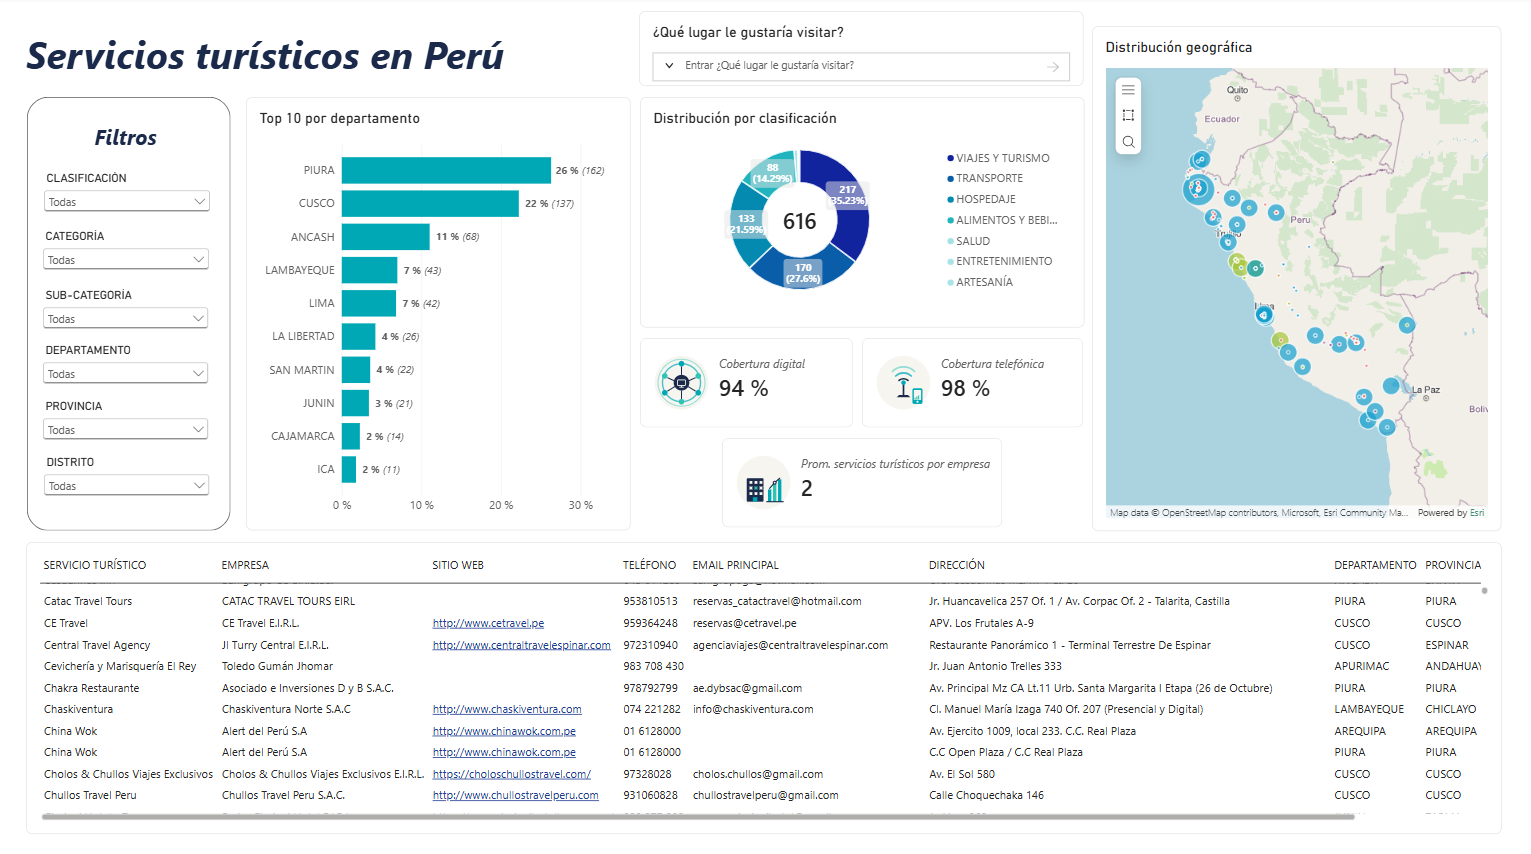

The page's visual inventory and layout, read from the dashboard file:
{"tool":"powerbi","page":{"name":"Resumen","canvas":[1920,1080],"ordinal":0},"visuals":[{"type":"esriVisual","title":"Distribución geográfica","fields":{"Color":["DIM_CLASIFICACIÓN.NOMBRE"],"Latitude":["DIM_UBIGEO.latitude"],"Location":["FACT_SERVICIO_TURISTICO.DIRECCION"],"Longitude":["DIM_UBIGEO.longitude"],"Size":["MEDIDAS_DAX.N_SERV_TURISTICOS"]},"box":[1368.6,35.7,512.9,632.9],"z":0},{"type":"clusteredBarChart","title":"Top 10 por departamento","fields":{"Category":["DIM_UBIGEO.departamento"],"Y":["MEDIDAS_DAX.%_SERV_TURISTICOS_DEP"]},"box":[308.3,125,482.1,543.3],"z":1000},{"type":"tableEx","fields":{"Values":["FACT_SERVICIO_TURISTICO.NOMBRE","DIM_EMPRESA.NOMBRE","FACT_SERVICIO_TURISTICO.SITIO_WEB","FACT_SERVICIO_TURISTICO.TELÉFONO","FACT_SERVICIO_TURISTICO.CORREO_ELECTRONICO.1","FACT_SERVICIO_TURISTICO.DIRECCION","DIM_UBIGEO.departamento","DIM_UBIGEO.provincia","DIM_UBIGEO.distrito"]},"box":[32.9,682.9,1848.6,365.7],"z":2000},{"type":"shape","box":[33.3,125,255,543.3],"z":3000},{"type":"textbox","box":[32.7,37,675.6,88.2],"z":4000},{"type":"slicer","fields":{"Values":["DIM_CLASIFICACIÓN.NOMBRE"]},"box":[49.8,218.8,217.6,74],"z":5000},{"type":"slicer","fields":{"Values":["DIM_CATEGORÍA.NOMBRE"]},"box":[49.3,292,217.6,71.1],"z":6000},{"type":"slicer","fields":{"Values":["DIM_SUBCATEGORÍA.NOMBRE"]},"box":[49.1,365.3,217.3,70],"z":7000},{"type":"slicer","fields":{"Values":["DIM_UBIGEO.provincia"]},"box":[49.1,505.3,217.3,70],"z":8000},{"type":"slicer","fields":{"Values":["DIM_UBIGEO.departamento"]},"box":[49.1,435.3,217.3,70],"z":9000},{"type":"slicer","fields":{"Values":["DIM_UBIGEO.distrito"]},"box":[50,575.3,217.3,70],"z":10000},{"type":"donutChart","title":"Distribución por clasificación","fields":{"Category":["DIM_CLASIFICACIÓN.NOMBRE"],"Y":["MEDIDAS_DAX.N_SERV_TURISTICOS"]},"box":[801.4,125.7,557.1,288.6],"z":11000},{"type":"textbox","box":[48.6,157.1,217.1,57.1],"z":12000},{"type":"cardVisual","fields":{"Data":["MEDIDAS_DAX.Cobertura_canales_digitales"]},"box":[801.4,427.1,267.1,112.9],"z":13000},{"type":"cardVisual","fields":{"Data":["MEDIDAS_DAX.Cobertura_telefonos"]},"box":[1080,427.1,277.1,112.9],"z":14000},{"type":"cardVisual","fields":{"Data":["MEDIDAS_DAX.Prom_Servicios_Por_Empresa"]},"box":[904.3,552.9,351.4,112.9],"z":15000},{"type":"textSlicer","fields":{"Values":["DIM_UBIGEO.DEP_PROV_DIST"]},"box":[801,18,556.7,94.4],"z":16000}]}

Visuals, with their boxes in screenshot pixels (x1, y1, x2, y2), scaled from the page's 1920x1080 canvas onto the 1531x854 screenshot:
"Distribución geográfica" esriVisual: left=1091, top=28, right=1500, bottom=529
"Top 10 por departamento" clusteredBarChart: left=246, top=99, right=630, bottom=528
tableEx - FACT_SERVICIO_TURISTICO.NOMBRE x DIM_EMPRESA.NOMBRE: left=26, top=540, right=1500, bottom=829
shape: left=27, top=99, right=230, bottom=528
textbox: left=26, top=29, right=565, bottom=99
slicer - DIM_CLASIFICACIÓN.NOMBRE: left=40, top=173, right=213, bottom=232
slicer - DIM_CATEGORÍA.NOMBRE: left=39, top=231, right=213, bottom=287
slicer - DIM_SUBCATEGORÍA.NOMBRE: left=39, top=289, right=212, bottom=344
slicer - DIM_UBIGEO.provincia: left=39, top=400, right=212, bottom=455
slicer - DIM_UBIGEO.departamento: left=39, top=344, right=212, bottom=400
slicer - DIM_UBIGEO.distrito: left=40, top=455, right=213, bottom=510
"Distribución por clasificación" donutChart: left=639, top=99, right=1083, bottom=328
textbox: left=39, top=124, right=212, bottom=169
cardVisual - MEDIDAS_DAX.Cobertura_canales_digitales: left=639, top=338, right=852, bottom=427
cardVisual - MEDIDAS_DAX.Cobertura_telefonos: left=861, top=338, right=1082, bottom=427
cardVisual - MEDIDAS_DAX.Prom_Servicios_Por_Empresa: left=721, top=437, right=1001, bottom=526
textSlicer - DIM_UBIGEO.DEP_PROV_DIST: left=639, top=14, right=1083, bottom=89
